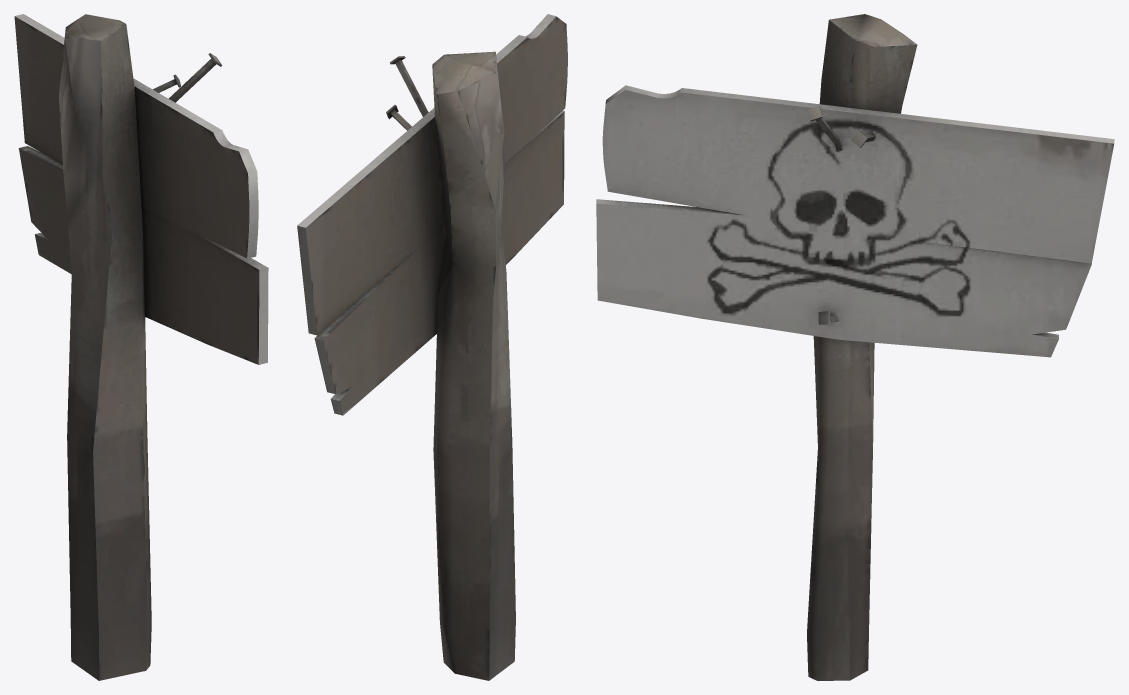
3 views of the same model, side by side, from view 1: azimuth 30°, elevation 25°; view 2: azimuth 150°, elevation 25°; view 3: azimuth 270°, elevation 25° (orthographic). The views are drawn at different scales.
Visible parts, largest first — view 1: body0_model0_lod0_mesh0; view 2: body0_model0_lod0_mesh0; view 3: body0_model0_lod0_mesh0.
Part boxes in pixels (left/top/right/bottom): body0_model0_lod0_mesh0: left=14, top=14, right=268, bottom=680; body0_model0_lod0_mesh0: left=297, top=14, right=567, bottom=680; body0_model0_lod0_mesh0: left=596, top=14, right=1114, bottom=680.
Size of the model in its own units: 14.43 by 66.99 by 48.78.
1 material, 1 textured.
